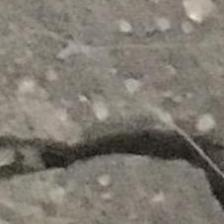Crack: (0, 28, 221, 224)
